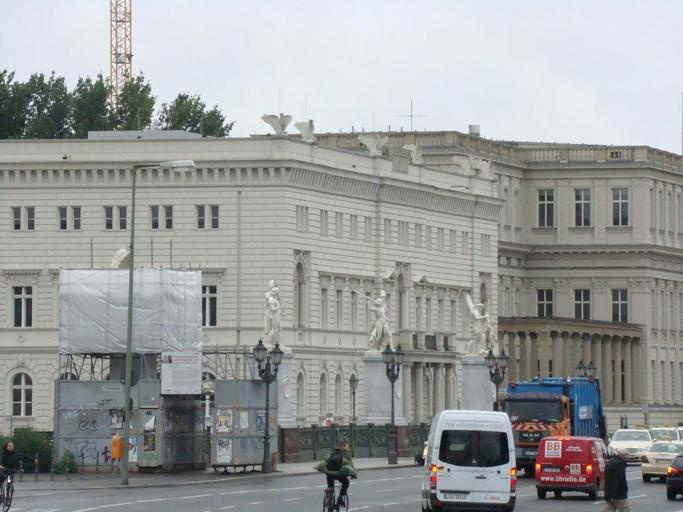non-vehicle: (321, 473, 355, 511), (0, 465, 24, 512)
